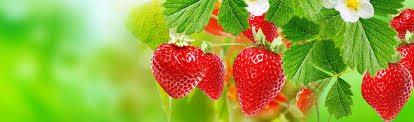ripe: (227, 40, 287, 117), (148, 39, 206, 104), (358, 59, 410, 120), (190, 45, 227, 101), (237, 13, 281, 43), (196, 12, 235, 39), (297, 79, 326, 115), (393, 44, 411, 86), (387, 12, 413, 41)
